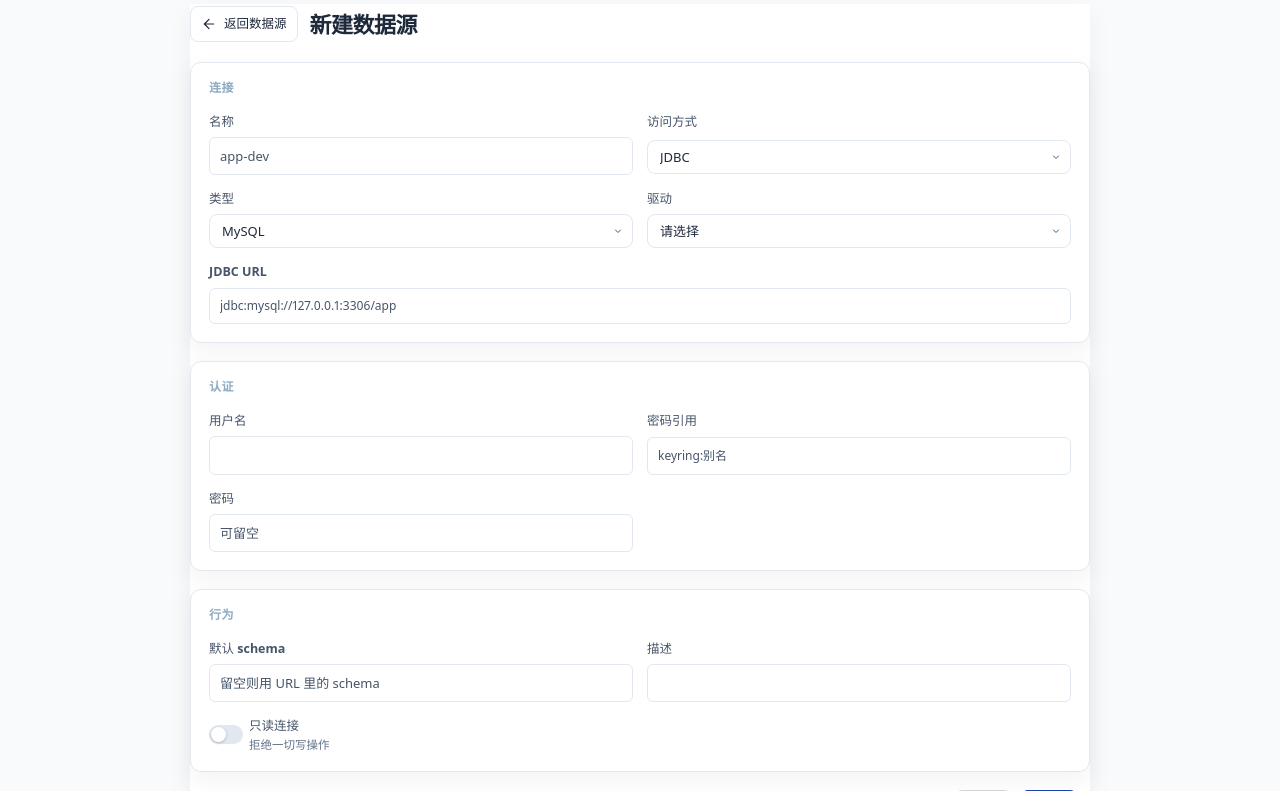
Test: 选 sqlite 后连接字段切换成文件路径，账号密码整段消失
Check: the field labelled "JDBC URL" is shown, box x1=209 y1=288 x2=1071 y2=324
Check: the field labelled "用户名" is shown, box x1=209 y1=436 x2=633 y2=474
Select "SQLite" in the dropdown labelled "类型" at coordinates (421, 232), box x1=209 y1=214 x2=633 y2=248
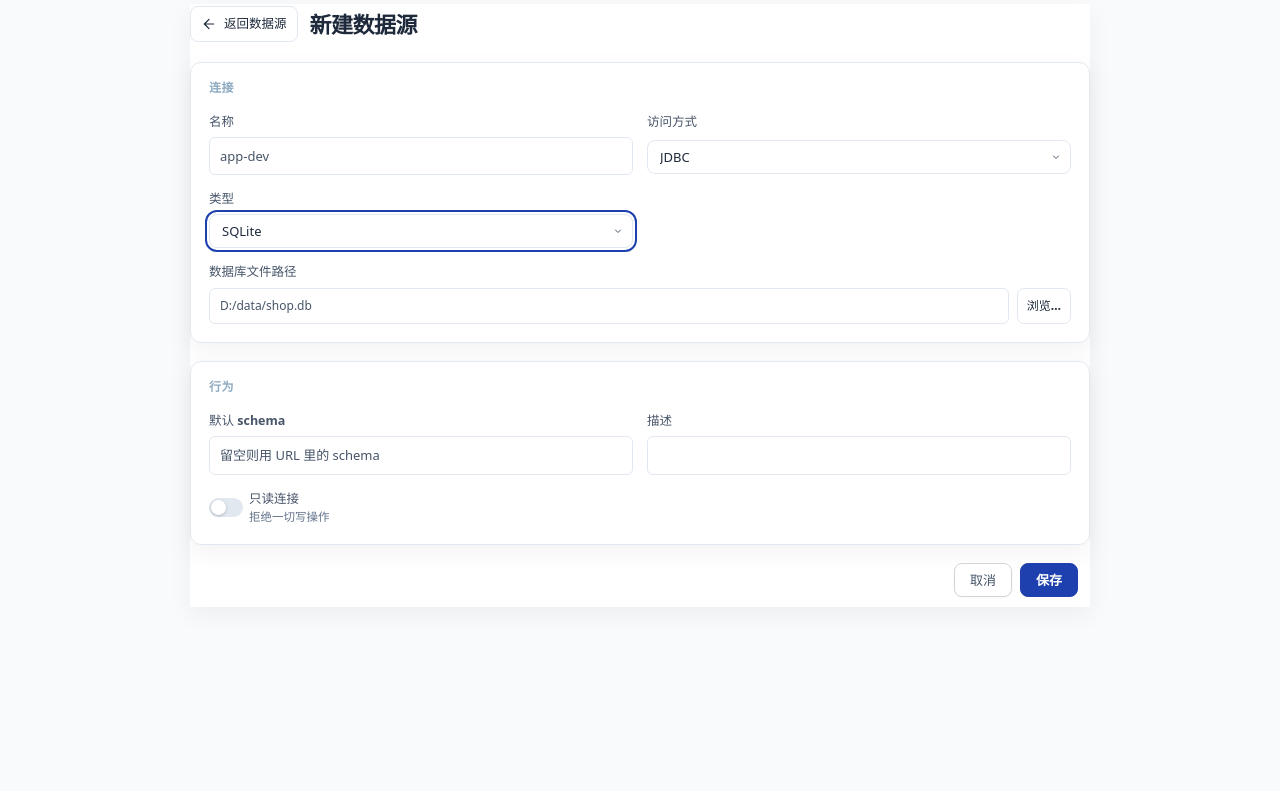
Check: the label labelled "JDBC URL" is gone
Check: the label labelled "用户名" is gone
Check: the label labelled "密码引用" is gone
